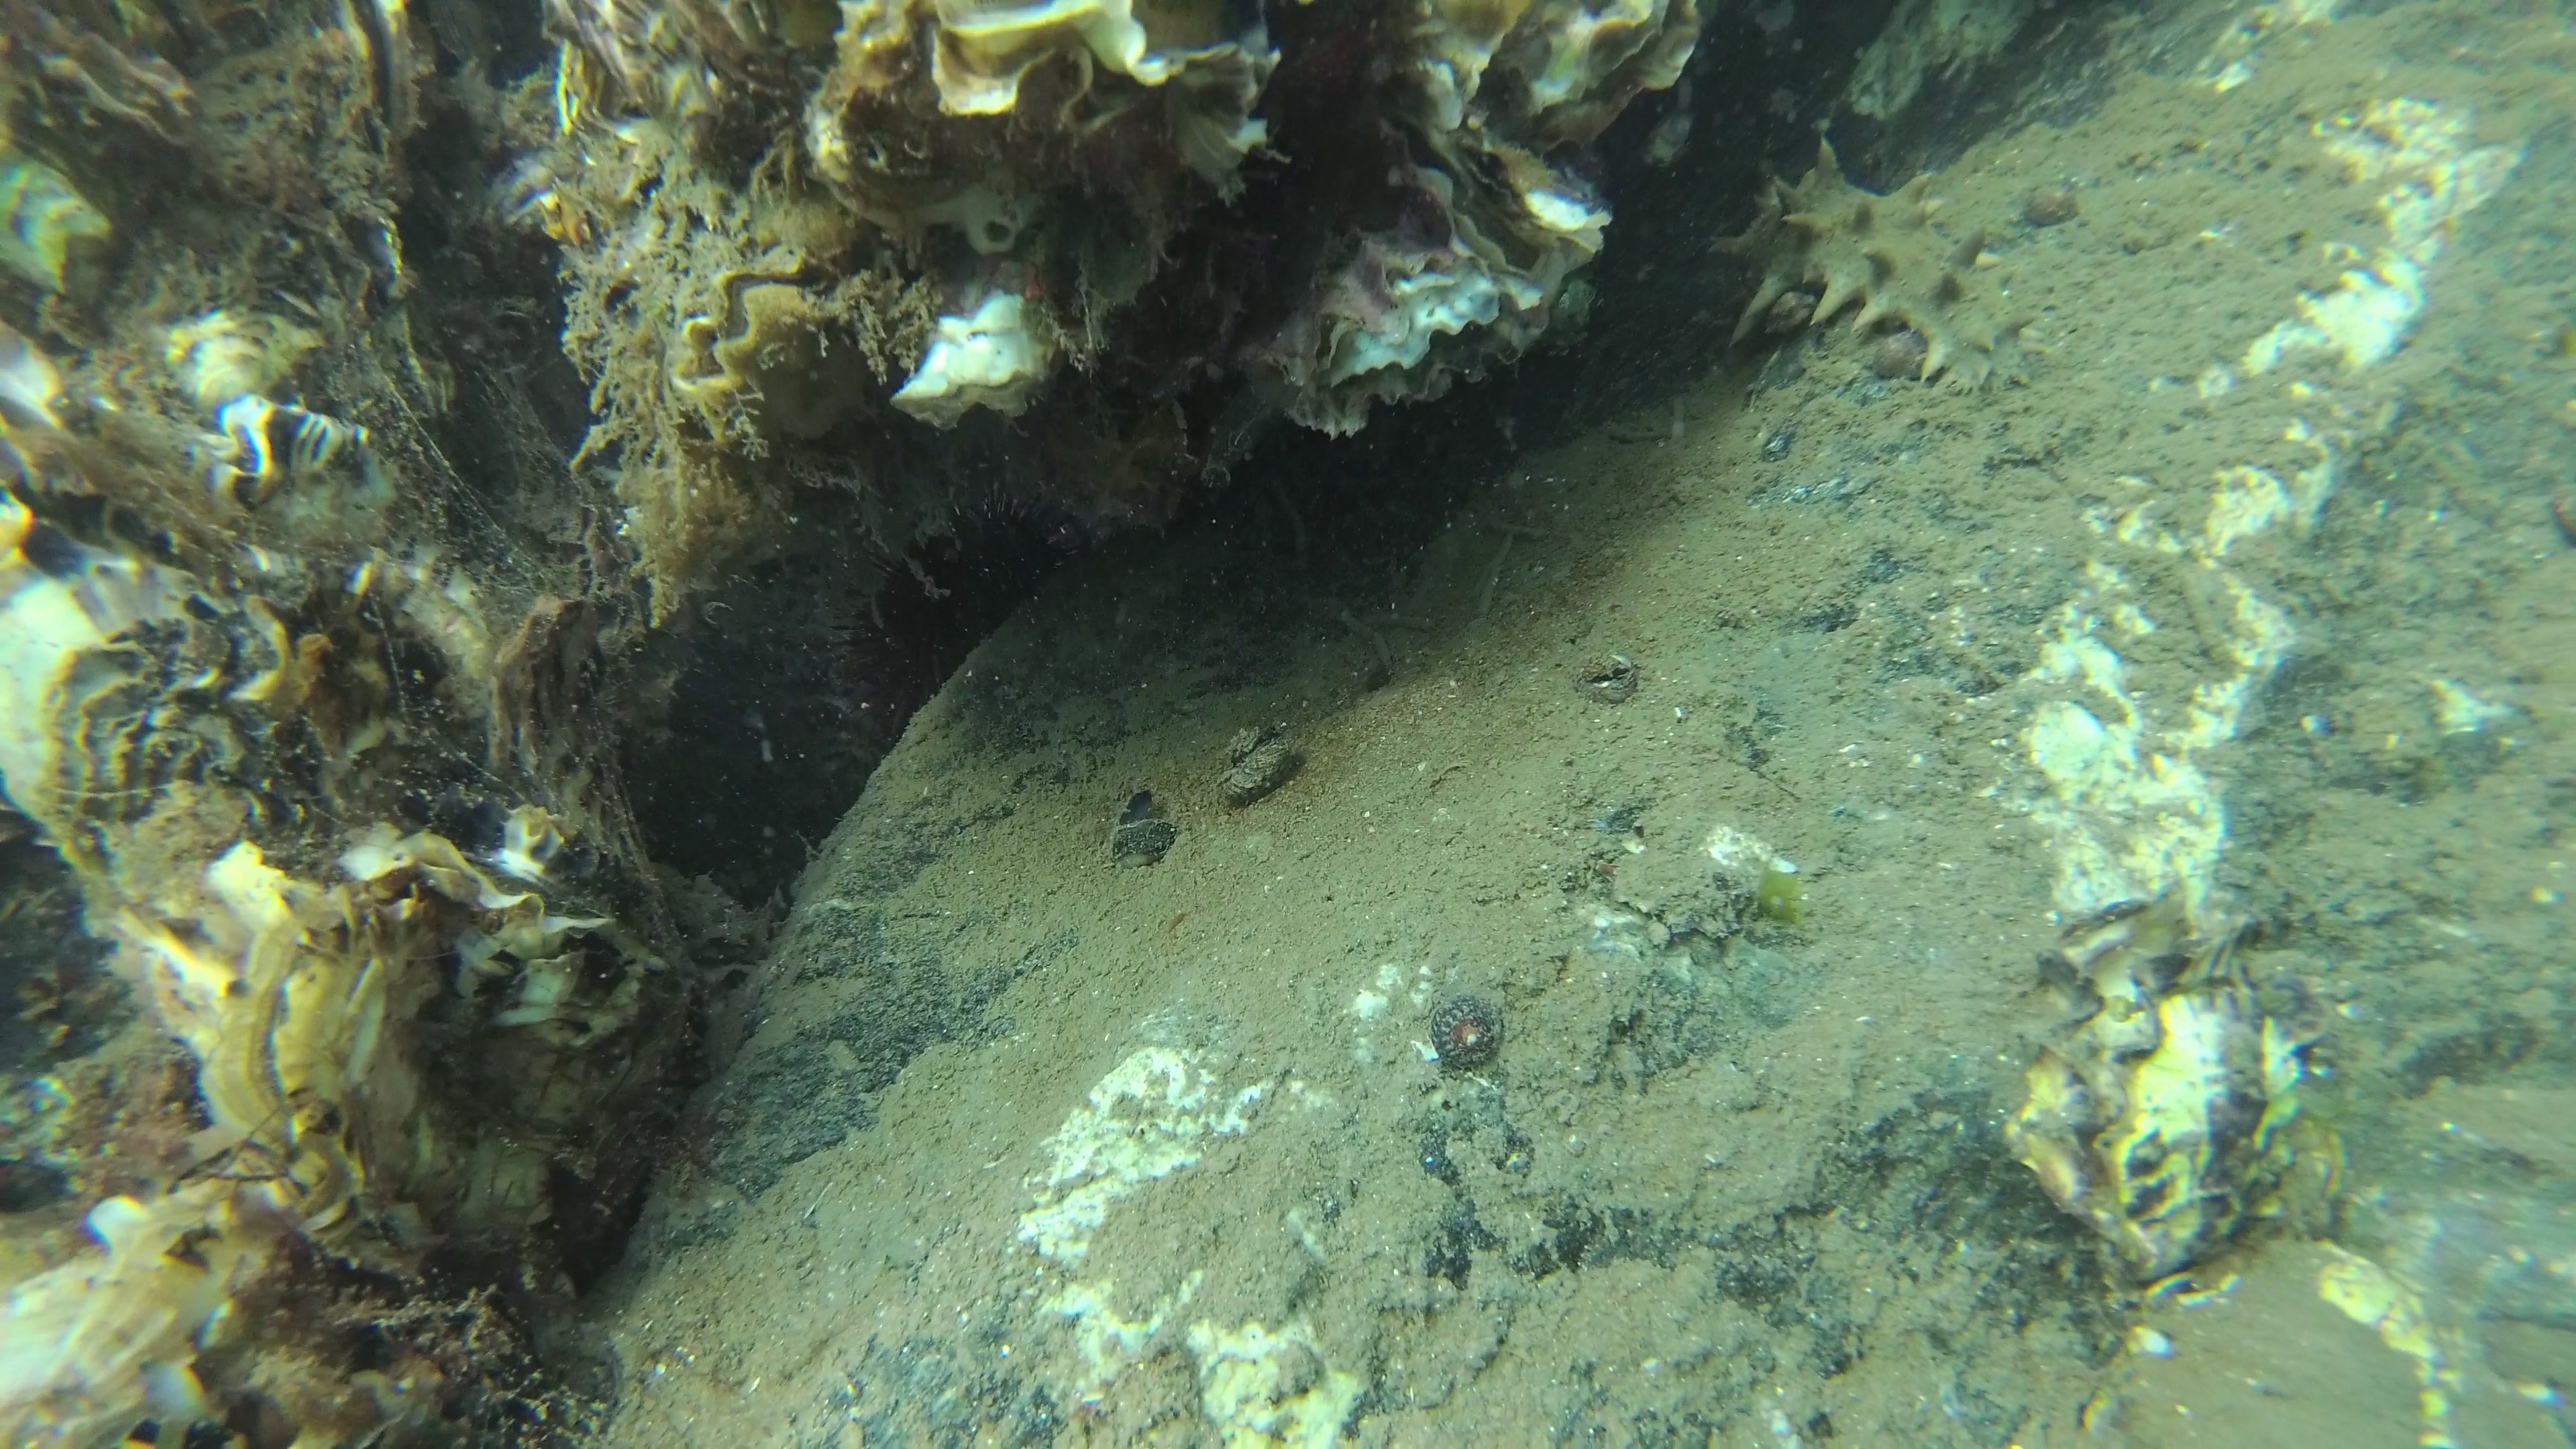echinus: (846, 494, 1074, 686)
holothurian: (1709, 133, 2038, 398)
